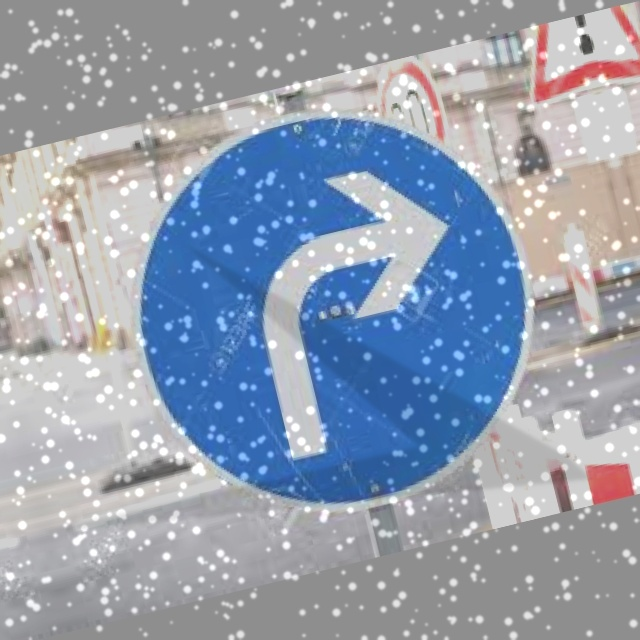Compulsory_Turn_Right_Ahead: (106, 73, 571, 529)
